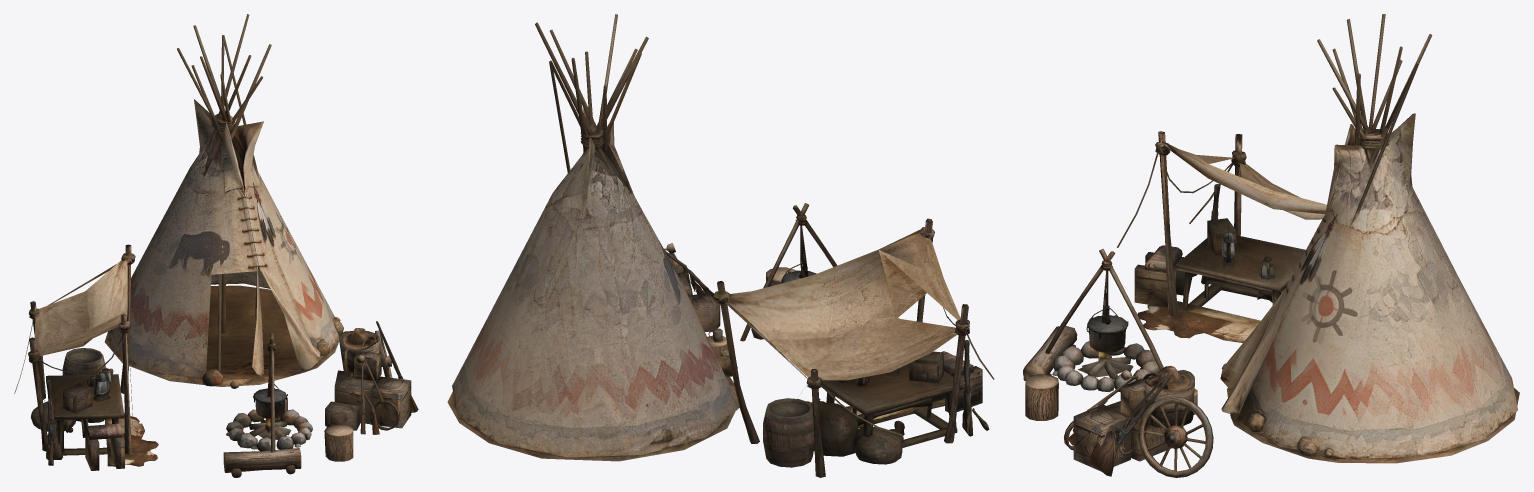
Rendered from camp2.glb.
The picture shows the model from 3 angles, left to right: view 1: azimuth 30°, elevation 25°; view 2: azimuth 150°, elevation 25°; view 3: azimuth 270°, elevation 25°; orthographic projection. The views are drawn at different scales.
Visible parts, largest first — view 1: tripo_part_0; view 2: tripo_part_0; view 3: tripo_part_0.
Part boxes in pixels (x1,y1,x2,y2): tripo_part_0: [14, 14, 418, 477]; tripo_part_0: [447, 14, 994, 477]; tripo_part_0: [1023, 14, 1519, 477].
Size of the model in its own units: 7 by 6.2 by 6.96.
Materials: 1 (1 with a texture image).
